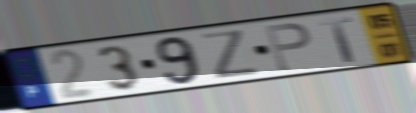2: (49, 47, 97, 103)
3: (95, 44, 141, 92)
9: (155, 34, 203, 87)
P: (262, 21, 313, 74)
T: (317, 15, 357, 64)
Z: (199, 28, 263, 81)
